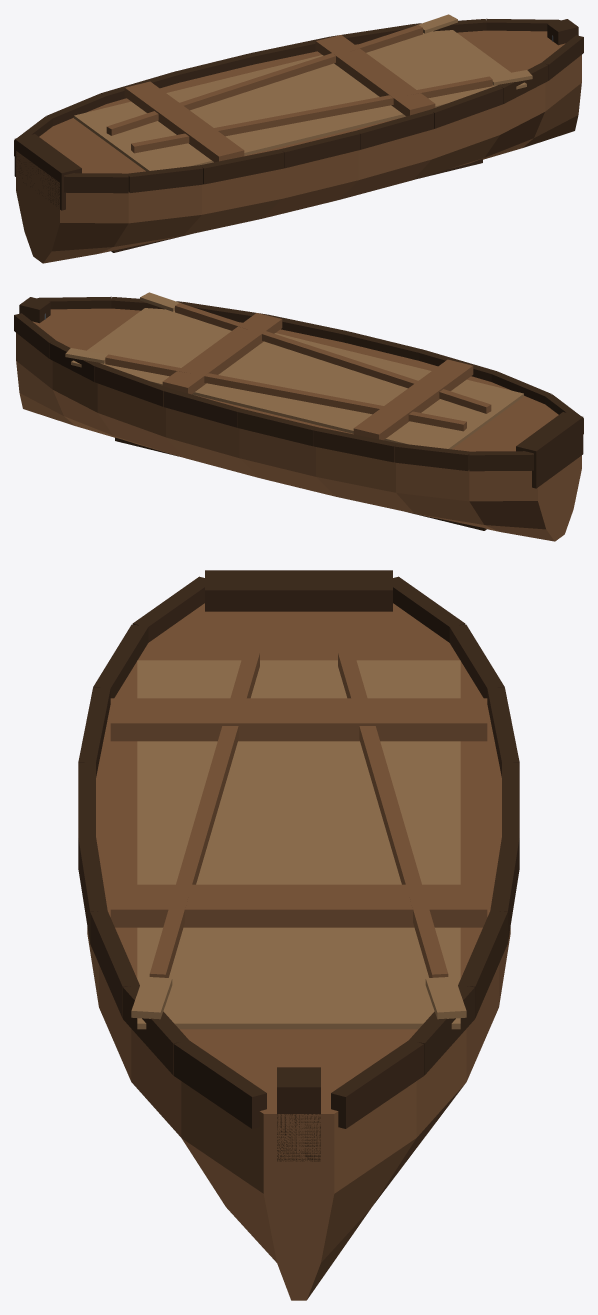
The model's file is SN_HT_Rowboat.glb.
3 views of the same model, one above another, from view 1: azimuth 30°, elevation 25°; view 2: azimuth 150°, elevation 25°; view 3: azimuth 270°, elevation 25° (orthographic). The views are drawn at different scales.
Visible parts, largest first — view 1: SN_HT_Rowboat; view 2: SN_HT_Rowboat; view 3: SN_HT_Rowboat.
Part boxes in pixels (left/top/right/bottom): SN_HT_Rowboat: left=14, top=14, right=583, bottom=263; SN_HT_Rowboat: left=14, top=292, right=583, bottom=541; SN_HT_Rowboat: left=78, top=570, right=519, bottom=1300.
Size of the model in its own units: 4.2 by 0.8 by 1.5.
